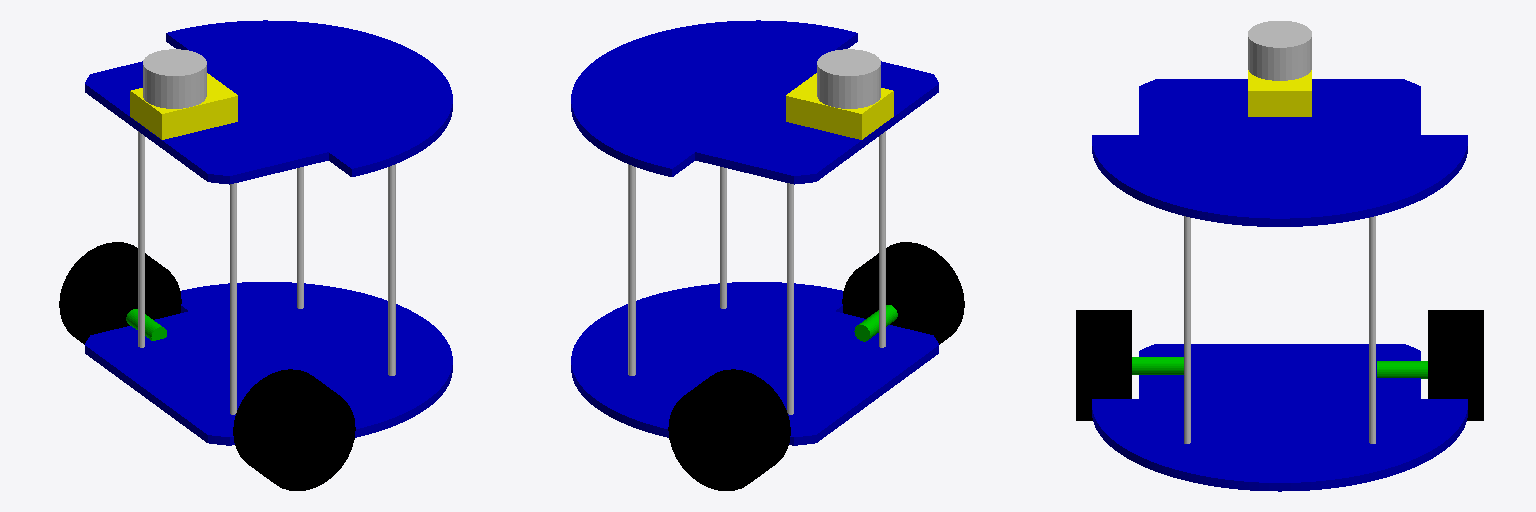
robot.urdf — myrobot:
<?xml version="1.0"?>
<robot name="myrobot">
  <material name="white">
    <color rgba="0.87 0.90 0.87 1.0"/>
  </material>
  <material name="black">
    <color rgba="0.0 0.0 0.0 1.0"/>
  </material>
  <material name="green">
    <color rgba="0.22 0.32 0.14 1.0"/>
  </material>
  <material name="Green">
    <color rgba="0.0 0.8 0.0 1.0"/>
  </material>
  <material name="OffWhite">
    <color rgba="0.8 0.8 0.8 1"/>
  </material>
  <material name="yellow">
     <color rgba="1 1 0 1"/>
  </material>

  <link name="base_link">
     <visual>
       <geometry>
          <!--<cylinder length="0.0042" radius="0.2" />-->
          <mesh filename="package://myrobot/meshes/ROS.stl" scale="0.001016 0.001016 0.001016"/>
       </geometry>
       <material name="blue">
         <color rgba="0 0 0.8 1" />
       </material>
       <origin rpy="0 0 -1.57075" xyz="0 0 0.04 " />
     </visual>
  </link>
<!--This is added to the last 4 supports-->
  <link name="right_wheel">
     <visual>
       <geometry>
          <cylinder length="0.06" radius="0.06" />
       </geometry>
       <origin xyz="0 0 0.04 " />
       <material name="black"/>
     </visual>
  </link>

   <joint name="right_wheel_joint" type="continuous">
      <parent link="base_link" />
      <child  link="right_wheel" />
       <axis xyz="0 0 1" />
      <origin rpy="0 1.57075 1.57075" xyz="-0.075 -0.23 0.06" />
      <!--<origin rpy="0 1.57057 0" xyz="0.19 0.075 0.02" />-->
   </joint>

   <link name="right_wheel_axis">
      <visual>
        <geometry>
           <cylinder length="0.06" radius="0.01" />
        </geometry>
        <origin xyz="0 0 0.04 " />
        <material name="Green" />
      </visual>
   </link>

   <joint name="right_wheel_axis_joint" type="fixed">
      <parent link="base_link" />
      <child  link="right_wheel_axis" />
      <origin rpy="0 1.57075 1.57075" xyz="-0.075 -0.17 0.06" />
      <!--<origin rpy="0 1.57057 0" xyz="0.13 0.075 0.02" />-->
   </joint>

  <link name="left_wheel">
     <visual>
       <geometry>
          <cylinder length="0.06" radius="0.06" />
       </geometry>
        <!--<origin rpy="0 -1.57057 0" xyz="-0.19 0.075 0" />-->
        <origin xyz="0 0 0.04 " />
       <material name="black" />
     </visual>
  </link>

  <joint name="left_wheel_joint" type="continuous">
      <parent link="base_link" />
      <child  link="left_wheel" />
      <axis xyz="0 0 1" />
      <!--<origin rpy="0 -1.57057 0" xyz="-0.19 0.075 0.02" />-->
      <origin rpy="0 -1.57075 1.57075" xyz="-0.075 0.23 0.06" />
  </joint>

  <link name="left_wheel_axis">
      <visual>
        <geometry>
           <cylinder length="0.06" radius="0.01" />
        </geometry>
        <origin xyz="0 0 0.035" />
        <material name="Green" />
      </visual>
  </link>

  <joint name="left_wheel_axis_joint" type="fixed">
      <parent link="base_link" />
      <child  link="left_wheel_axis" />
      <!--<origin rpy="0 -1.57057 0" xyz="-0.13 0.075 0.02" />-->
      <origin rpy="0 -1.57075 1.57075" xyz="-0.075 0.17 0.055" />
  </joint>
<!--End-->

<!--This is added to the last 4 supports-->

  <link name="left_brace_front">
    <visual>
       <geometry>
          <cylinder length="0.32" radius="0.004" />
       </geometry>
       <material name="green">
          <color rgba=".86 .86 .86 1" />
       </material>
    </visual>
  </link>

  <joint name="left_brace_front_joint" type="fixed">
     <parent link="base_link" />
     <child  link="left_brace_front"/>
     <origin xyz="0.1 0.1 0.2" />
  </joint>

  <link name="left_brace_back">
    <visual>
       <geometry>
          <cylinder length="0.32" radius="0.004" />
       </geometry>
       <material name="green">
          <color rgba="0.86 0.86 0.86 1" />
       </material>
    </visual>
  </link>

  <joint name="left_brace_back_joint" type="fixed">
     <parent link="base_link" />
     <child  link="left_brace_back"/>
     <origin xyz="0.1 -0.1 0.2" />
  </joint>

  <link name="right_brace_front">
    <visual>
       <geometry>
          <cylinder length="0.32" radius="0.004" />
       </geometry>
       <material name="green">
          <color rgba=".86 .86 .86 1" />
       </material>
    </visual>
  </link>

  <joint name="right_brace_front_joint" type="fixed">
     <parent link="base_link" />
     <child  link="right_brace_front"/>
     <origin xyz="-0.1 0.1 0.2" />
  </joint>

  <link name="right_brace_back">
    <visual>
       <geometry>
          <cylinder length="0.32" radius="0.004" />
       </geometry>
       <material name="green">
          <color rgba=".86 .86 .86 1" />
       </material>
    </visual>
  </link>

  <joint name="right_brace_back_joint" type="fixed">
     <parent link="base_link" />
     <child  link="right_brace_back"/>
     <origin xyz="-0.1 -0.1 0.2" />
  </joint>
<!--End-->

<!--This is the rplidar-->
    <link name="rplidar">
       <visual>
         <geometry>
            <cylinder length="0.046" radius="0.035"/> 
         </geometry>
         <origin xyz="0 0 0.04" />
         <material name="OffWhite" />
       </visual>
    </link>

    <joint name="rplidar_joint" type="fixed">
       <parent link="rplidar_bottom" />
       <child  link="rplidar"/>
       <!--<origin xyz="0 0.012 0.033" />-->
       <origin rpy="0 0 1.57075" xyz="0 0.012 0.033" />
    </joint>

    <link name="rplidar_bottom">
      <visual>
         <geometry>
            <box size="0.07 0.096 0.033" />
         </geometry>
         <origin xyz="0 0 0.04" />
         <material name="yellow" />
      </visual>
    </link>
  
    <joint name="rplidar_bottom_joint" type="fixed">
       <parent link="base_link" />
       <child  link="rplidar_bottom" />
       <!--<origin  xyz="0 0.104 0.34" />-->
       <origin rpy="0 0 1.57075" xyz="-0.104 0 0.34" />
    </joint>
<!--End-->

</robot>

--- Facts derived from the render (not from the file) ---
Views: 3 orthographic renders of the robot side by side, from view 1: azimuth 30°, elevation 25°; view 2: azimuth 150°, elevation 25°; view 3: azimuth 270°, elevation 25°.
Model myrobot with 11 links and 10 joints (2 continuous, 8 fixed), rooted at base_link, posed every joint at zero.
Visible links, largest first — view 1: base_link, right_wheel, left_wheel, rplidar_bottom, rplidar, left_brace_back, right_brace_back, right_brace_front, left_brace_front, left_wheel_axis; view 2: base_link, left_wheel, right_wheel, rplidar_bottom, rplidar, left_brace_front, right_brace_front, right_brace_back, left_brace_back, right_wheel_axis; view 3: base_link, right_wheel, left_wheel, rplidar, rplidar_bottom, left_brace_front, left_brace_back, right_wheel_axis, left_wheel_axis.
Link boxes in pixels (<box>): base_link: <box>85,20,452,445</box>; right_wheel: <box>233,369,355,490</box>; left_wheel: <box>59,242,181,344</box>; rplidar_bottom: <box>130,73,237,139</box>; rplidar: <box>143,49,206,108</box>; left_brace_back: <box>388,164,395,375</box>; right_brace_back: <box>230,183,236,414</box>; right_brace_front: <box>138,131,144,347</box>; left_brace_front: <box>297,167,303,308</box>; left_wheel_axis: <box>126,309,166,340</box>; base_link: <box>571,20,938,445</box>; left_wheel: <box>668,369,790,490</box>; right_wheel: <box>842,242,964,344</box>; rplidar_bottom: <box>786,73,893,139</box>; rplidar: <box>817,49,880,108</box>; left_brace_front: <box>628,164,635,375</box>; right_brace_front: <box>787,183,793,414</box>; right_brace_back: <box>879,131,885,347</box>; left_brace_back: <box>720,167,726,308</box>; right_wheel_axis: <box>854,305,897,341</box>; base_link: <box>1092,79,1467,491</box>; right_wheel: <box>1076,310,1131,420</box>; left_wheel: <box>1428,310,1483,420</box>; rplidar: <box>1248,21,1311,80</box>; rplidar_bottom: <box>1248,70,1311,116</box>; left_brace_front: <box>1369,216,1375,443</box>; left_brace_back: <box>1184,216,1190,443</box>; right_wheel_axis: <box>1132,357,1183,374</box>; left_wheel_axis: <box>1377,361,1427,378</box>.
Bounding box of the posed robot: 0.3556 × 0.44 × 0.436 m (x, y, z).
Meshes: 1 distinct files referenced, 1 mesh visuals loaded (1 binary STL).